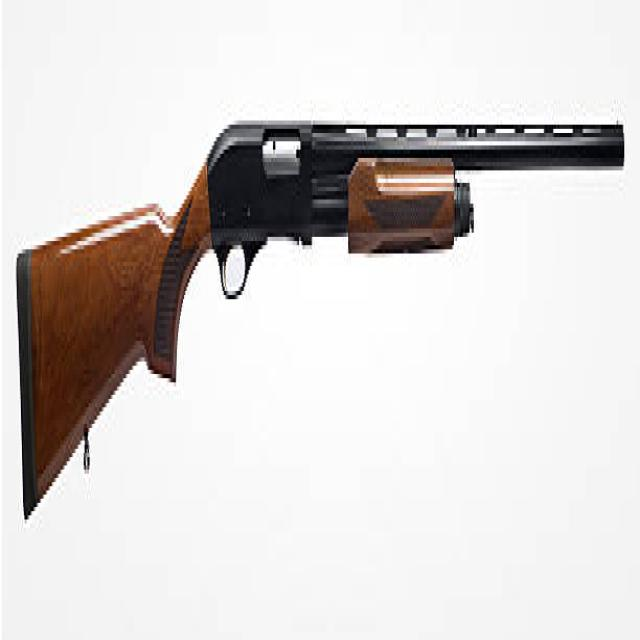rifle: (15, 109, 628, 536)
